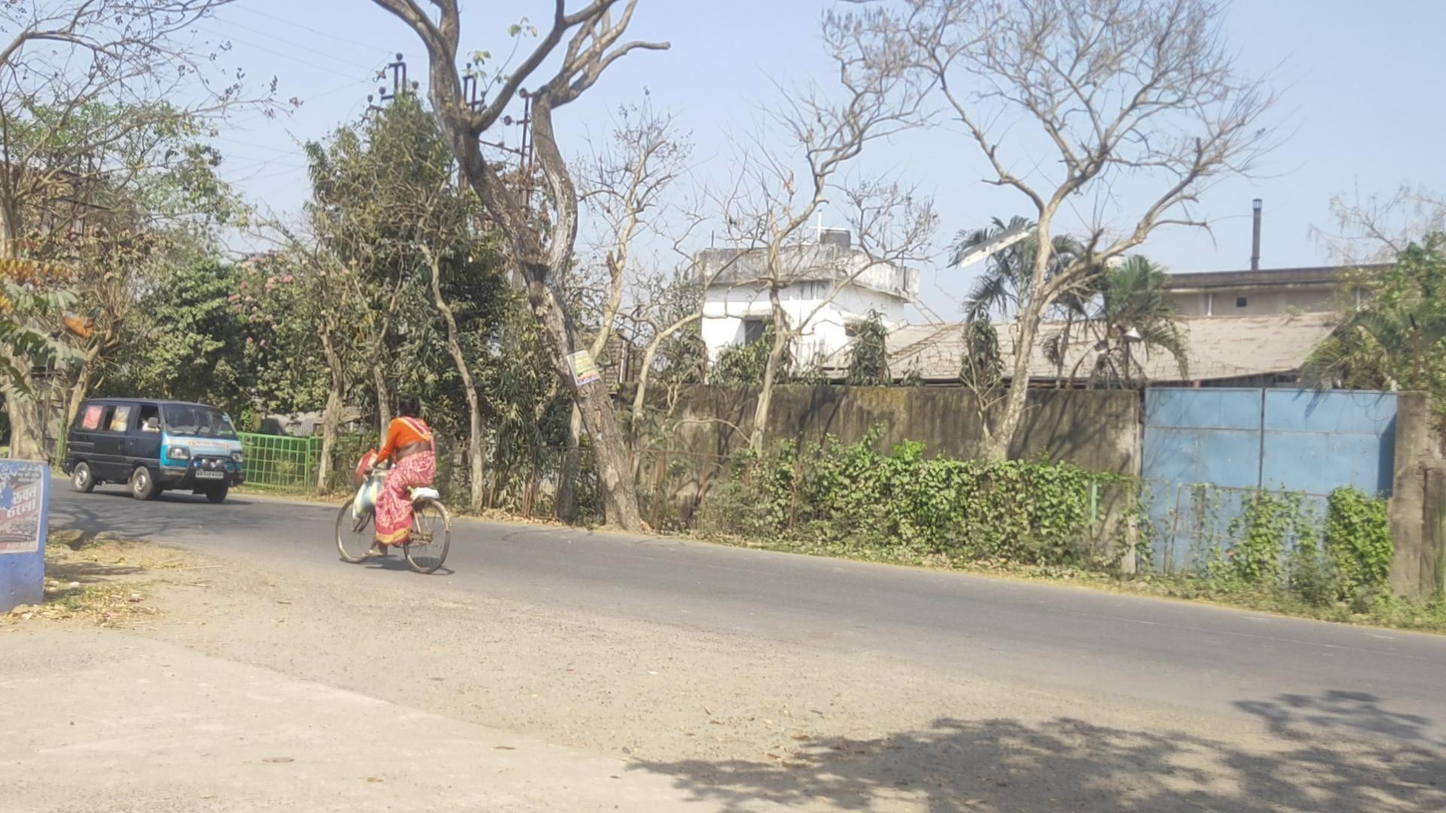bike: (335, 393, 451, 573)
van: (61, 397, 247, 502)
